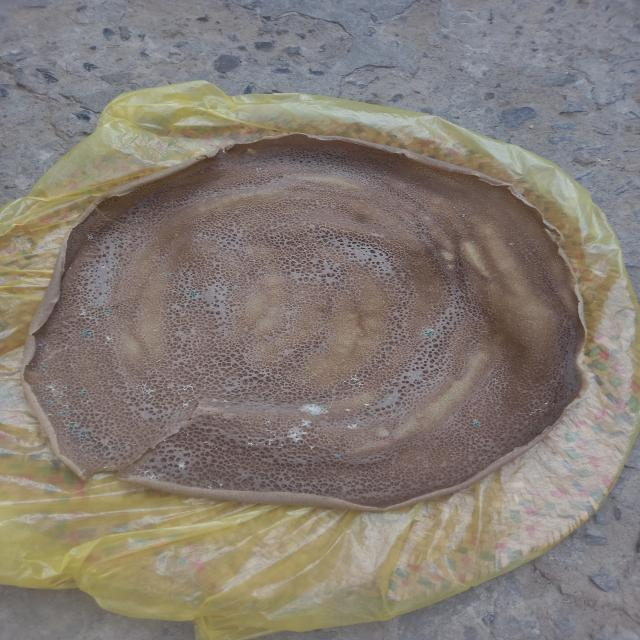injera_mold: (244, 419, 282, 458), (286, 420, 321, 452), (36, 377, 72, 397), (528, 399, 560, 416), (130, 467, 166, 482), (297, 401, 330, 416), (72, 306, 101, 321), (342, 374, 367, 389), (166, 383, 197, 394), (136, 382, 156, 397), (83, 232, 97, 244), (64, 424, 83, 432), (172, 461, 187, 471), (420, 328, 435, 338), (347, 422, 361, 431), (36, 364, 51, 372), (188, 289, 200, 298), (76, 390, 89, 398), (80, 330, 93, 338), (170, 289, 183, 297), (103, 336, 114, 345), (470, 419, 481, 427), (134, 216, 145, 223), (78, 432, 90, 438), (60, 409, 68, 418), (332, 451, 342, 457), (42, 400, 51, 406), (163, 272, 173, 277), (360, 403, 372, 407), (106, 309, 114, 314), (507, 242, 515, 247), (254, 167, 263, 171), (344, 407, 351, 412), (460, 214, 466, 217), (120, 325, 125, 328)
